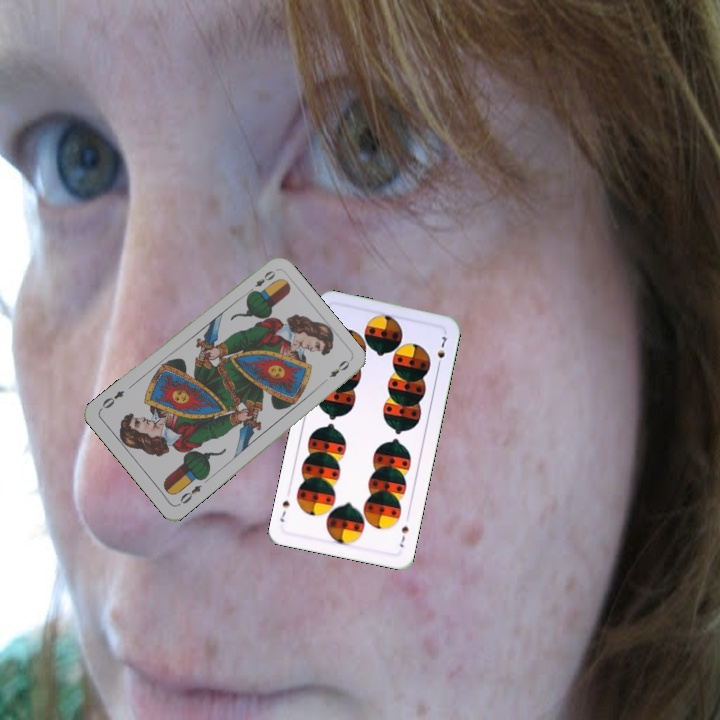EO: (243, 266, 278, 297), (174, 481, 204, 508)
S7: (396, 521, 411, 550)
